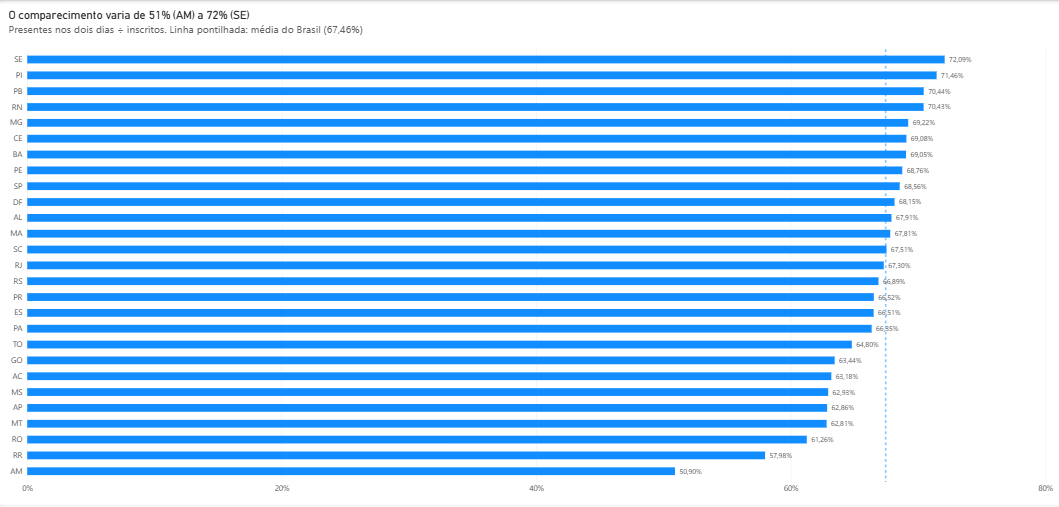

The dashboard page shown, as its layout file describes it:
{"tool":"powerbi","page":{"name":"Comparecimento","canvas":[1920,1080],"ordinal":3},"visuals":[{"type":"clusteredBarChart","title":"O comparecimento varia de 51% (AM) a 72% (SE)","fields":{"Category":["dUF.SG_UF_PROVA"],"Y":["fPresencaUF.Taxa de Presença"]},"box":[0,0,1920.7,913.8],"z":0}]}

Visuals, with their boxes on the page's 1920x1080 design canvas (x1, y1, x2, y2). These are canvas units, not pixel positions in the 1059x507 screenshot, which may show the page scaled, cropped or inside an application window:
"O comparecimento varia de 51% (AM) a 72% (SE)" clusteredBarChart: pyautogui.locateOnScreen(0, 0, 1921, 914)
